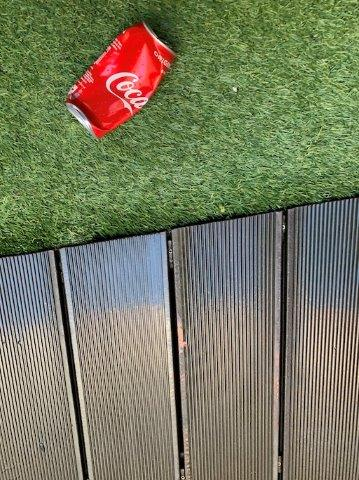kaleng: (67, 24, 175, 136)
